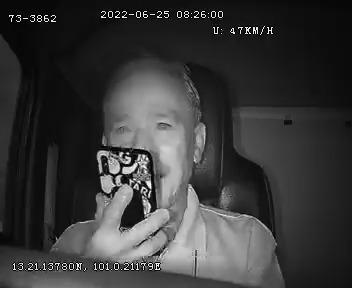PhoneUse: (90, 142, 165, 268)
